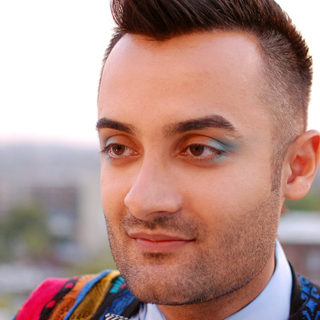eye: (167, 132, 237, 166), (93, 132, 149, 165)
